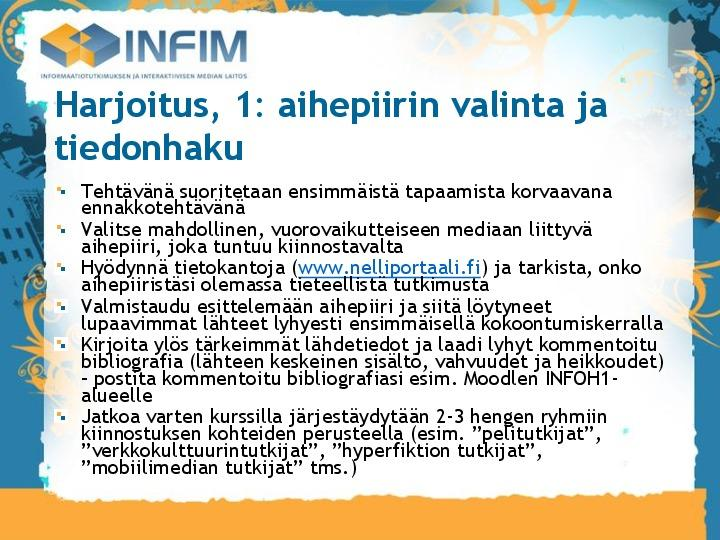paragraph: (50, 172, 681, 489)
title: (50, 83, 617, 167)
